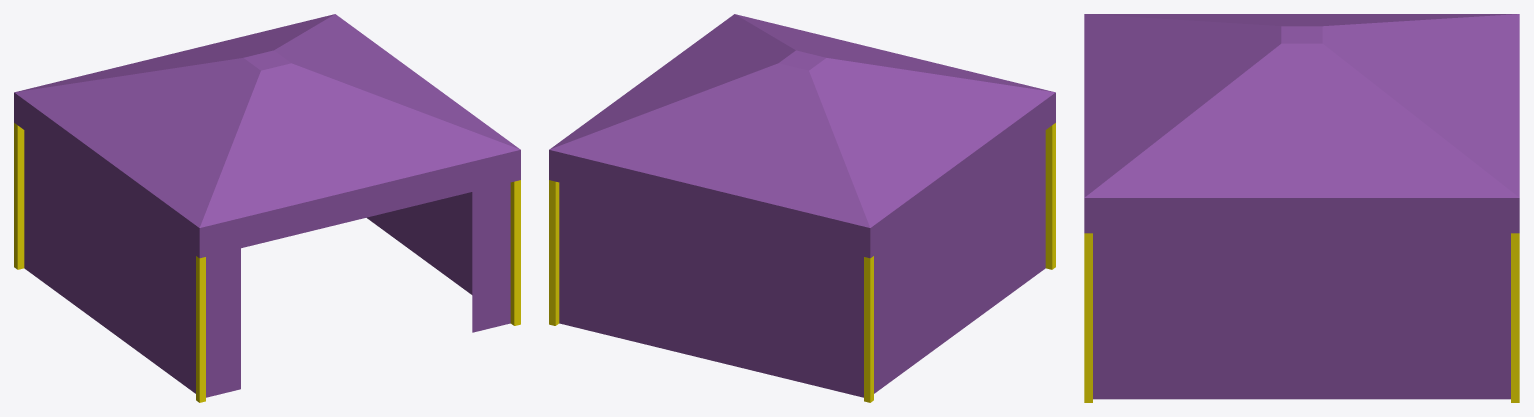
Rendered from tentClosed.glb.
The picture shows the model from 3 angles, left to right: view 1: azimuth 30°, elevation 25°; view 2: azimuth 150°, elevation 25°; view 3: azimuth 270°, elevation 25°; orthographic projection. The views are drawn at different scales.
Visible parts, largest first — view 1: tentClosed(Clone); view 2: tentClosed(Clone); view 3: tentClosed(Clone).
Part boxes in pixels (x1,y1,x2,y2): tentClosed(Clone): (14, 14, 520, 402); tentClosed(Clone): (549, 14, 1055, 402); tentClosed(Clone): (1084, 14, 1519, 402).
Size of the model in its own units: 1 by 0.7 by 1.
